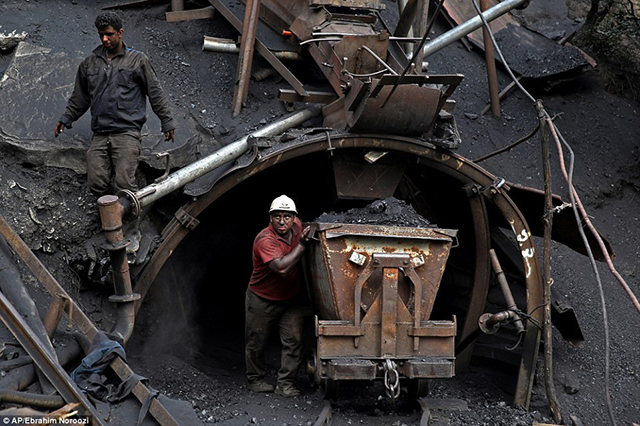helmet: (264, 190, 302, 235)
